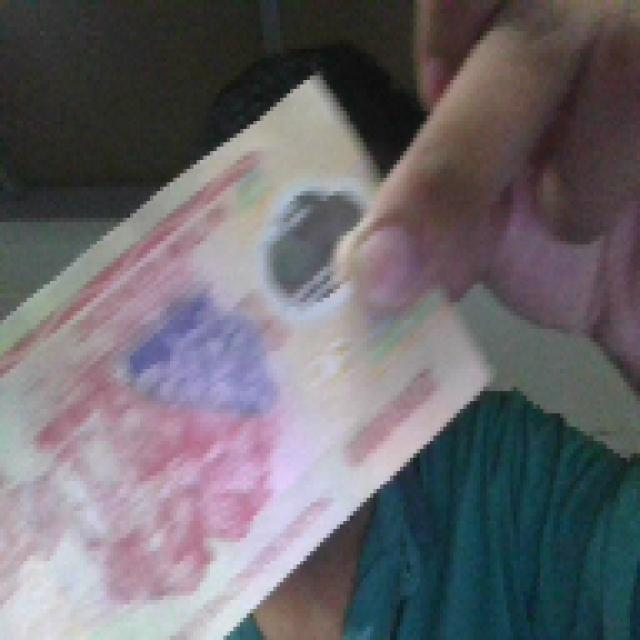200 000 VND: (2, 67, 499, 636)
